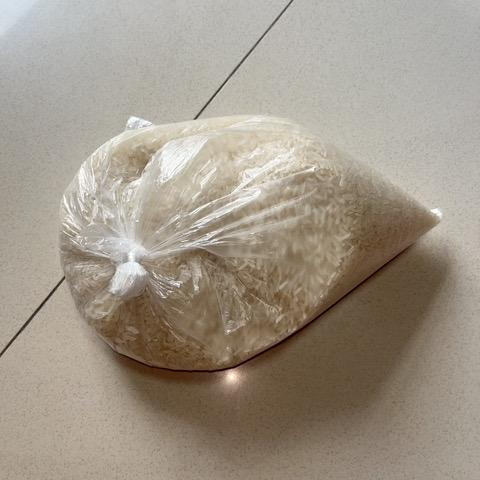rice: (56, 106, 451, 378)
